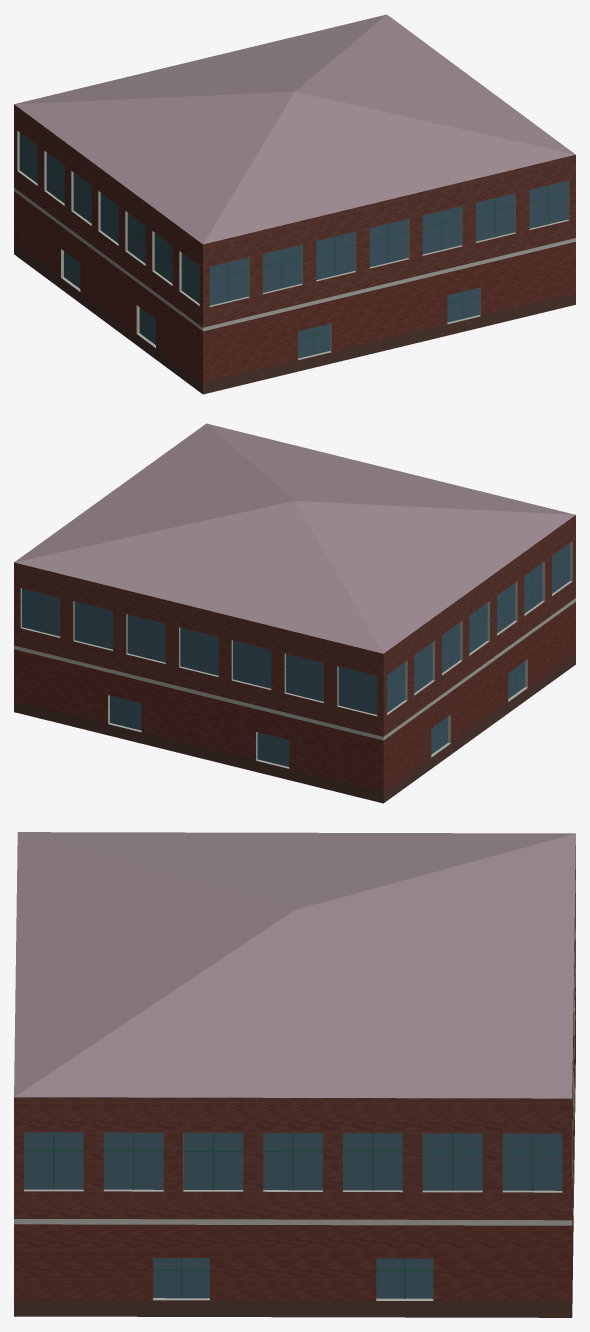
The picture shows the model from 3 angles, top to bottom: view 1: azimuth 30°, elevation 25°; view 2: azimuth 150°, elevation 25°; view 3: azimuth 270°, elevation 25°; orthographic projection. The views are drawn at different scales.
Visible parts, largest first — view 1: maria__roof-metal, maria__wall-plaster, maria__brick, maria__glass, maria__base-stone, maria__trim-concrete, maria__frame; view 2: maria__roof-metal, maria__wall-plaster, maria__brick, maria__glass, maria__base-stone, maria__trim-concrete, maria__frame; view 3: maria__roof-metal, maria__wall-plaster, maria__brick, maria__glass, maria__base-stone, maria__trim-concrete, maria__frame.
Boxes of the visible parts, box(x1,y1,x2,y2) form: maria__roof-metal: box(14, 14, 575, 244); maria__wall-plaster: box(14, 104, 575, 327); maria__brick: box(14, 191, 575, 382); maria__glass: box(19, 133, 567, 358); maria__base-stone: box(14, 243, 575, 394); maria__trim-concrete: box(14, 131, 575, 360); maria__frame: box(19, 140, 568, 354); maria__roof-metal: box(14, 423, 575, 653); maria__wall-plaster: box(14, 515, 575, 736); maria__brick: box(14, 602, 575, 791); maria__glass: box(22, 543, 570, 766); maria__base-stone: box(14, 653, 575, 803); maria__trim-concrete: box(14, 541, 575, 768); maria__frame: box(21, 550, 570, 763); maria__roof-metal: box(14, 832, 575, 1098); maria__wall-plaster: box(14, 845, 575, 1220); maria__brick: box(14, 973, 575, 1301); maria__glass: box(24, 1132, 562, 1298); maria__base-stone: box(14, 1048, 575, 1317); maria__trim-concrete: box(14, 880, 575, 1300); maria__frame: box(24, 1132, 562, 1298).
Size of the model in its own units: 31.01 by 14.9 by 27.64.
Materials: 7 (2 with a texture image).
